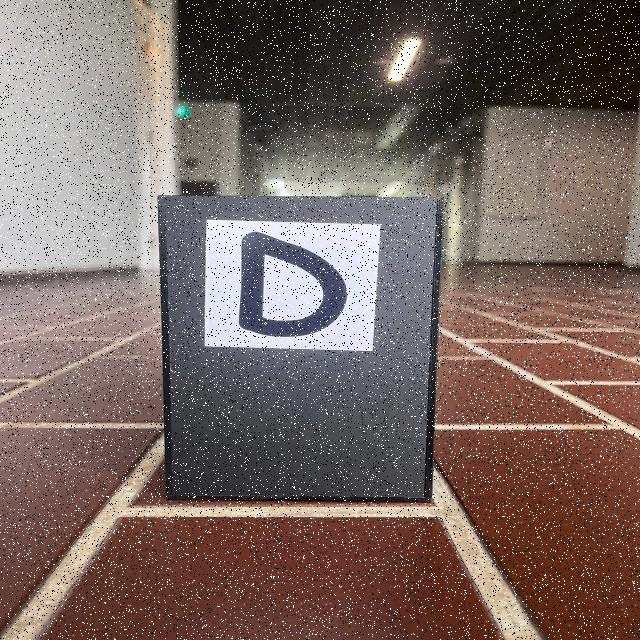D_id23: (205, 220, 378, 352)
